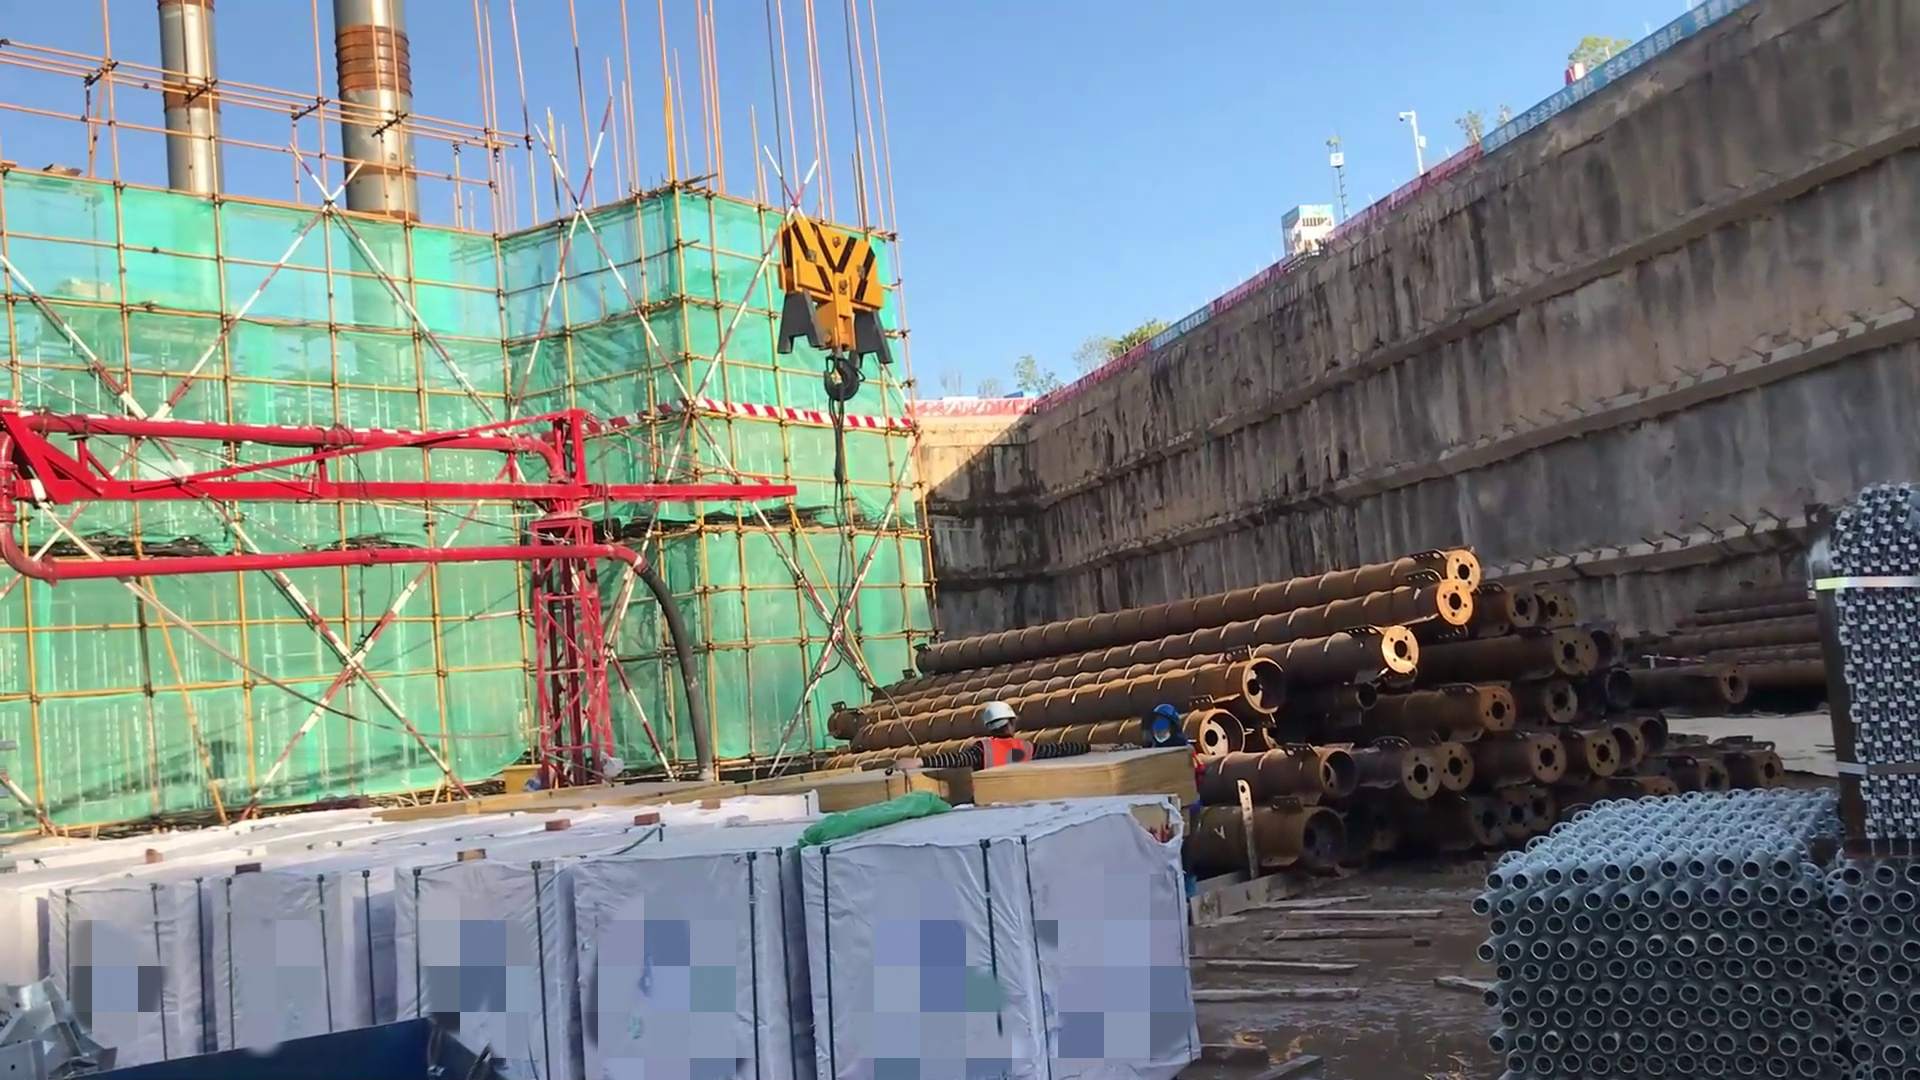board: (972, 740, 1194, 827)
ebox: (468, 755, 565, 801)
helmet: (1138, 698, 1193, 755), (973, 698, 1026, 752)
hook: (773, 198, 884, 417)
hopper: (113, 992, 495, 1080)
person: (1117, 689, 1214, 915), (885, 701, 1052, 804)
scaffold: (1456, 774, 1920, 1078), (1798, 474, 1920, 845)
slogan: (1487, 1, 1748, 155), (1144, 301, 1223, 369)
vest: (957, 733, 1036, 803)
